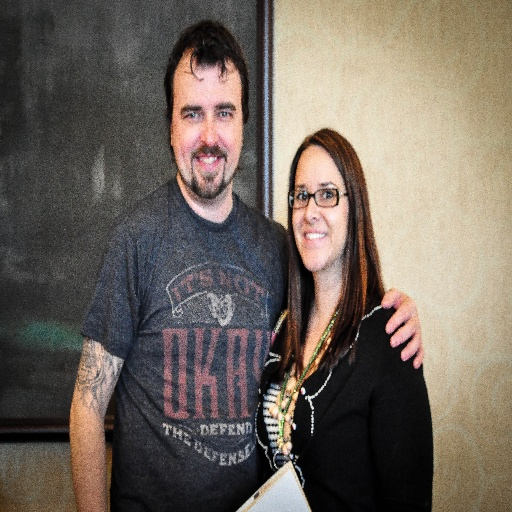hand: (387, 284, 435, 389)
